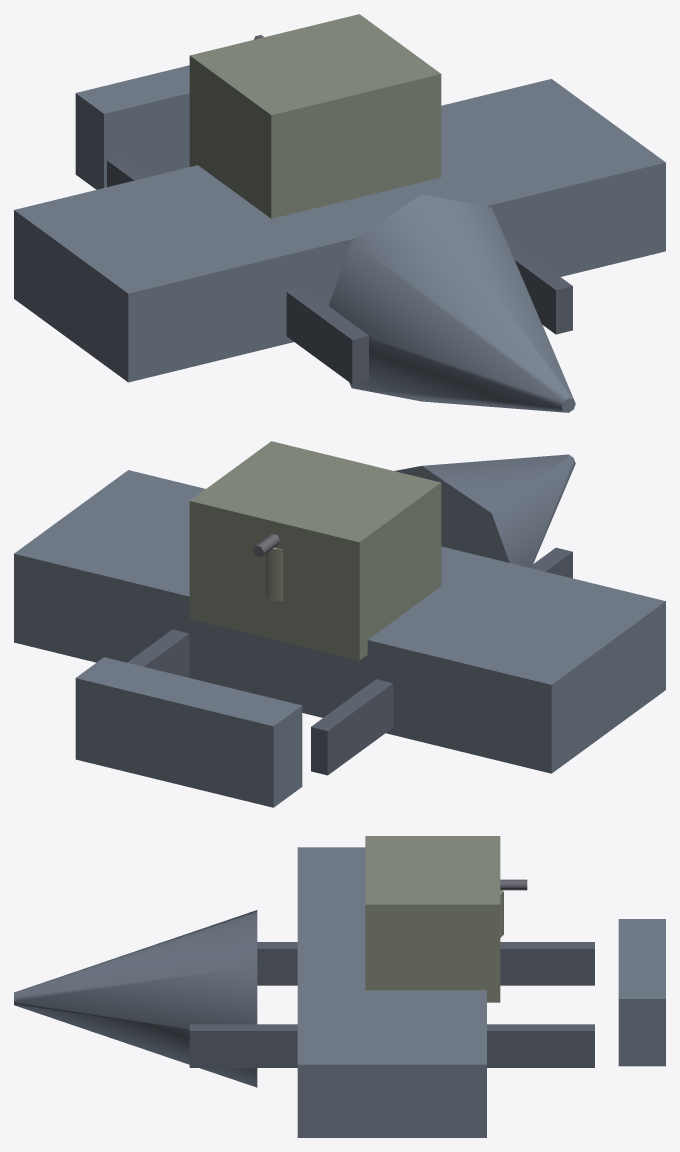
The model's file is boat_full.gltf.
The picture shows the model from 3 angles, top to bottom: view 1: azimuth 30°, elevation 25°; view 2: azimuth 150°, elevation 25°; view 3: azimuth 270°, elevation 25°; orthographic projection. The views are drawn at different scales.
Visible parts, largest first — view 1: boat_hull, boat_cabin, boat_bow, boat_stern, boat_fender_R, boat_fender_L; view 2: boat_hull, boat_cabin, boat_stern, boat_bow, boat_fender_R, boat_fender_L, boat_turret; view 3: boat_hull, boat_cabin, boat_bow, boat_fender_L, boat_stern, boat_fender_R.
Part boxes in pixels (<box>): boat_hull: <box>14,79,665,382</box>; boat_cabin: <box>189,14,441,218</box>; boat_bow: <box>328,194,575,412</box>; boat_stern: <box>75,65,189,189</box>; boat_fender_R: <box>107,156,368,384</box>; boat_fender_L: <box>505,238,572,334</box>; boat_hull: <box>14,470,665,773</box>; boat_cabin: <box>189,441,441,660</box>; boat_stern: <box>75,657,302,807</box>; boat_bow: <box>394,454,575,567</box>; boat_fender_R: <box>311,547,572,775</box>; boat_fender_L: <box>127,629,189,677</box>; boat_turret: <box>266,547,283,601</box>; boat_hull: <box>297,847,486,1137</box>; boat_cabin: <box>365,836,500,1002</box>; boat_bow: <box>14,910,257,1087</box>; boat_fender_L: <box>189,1024,594,1067</box>; boat_stern: <box>618,919,665,1066</box>; boat_fender_R: <box>257,942,594,985</box>.
Bounding box in the file's own units: 3.8 × 1.75 × 4.82.
